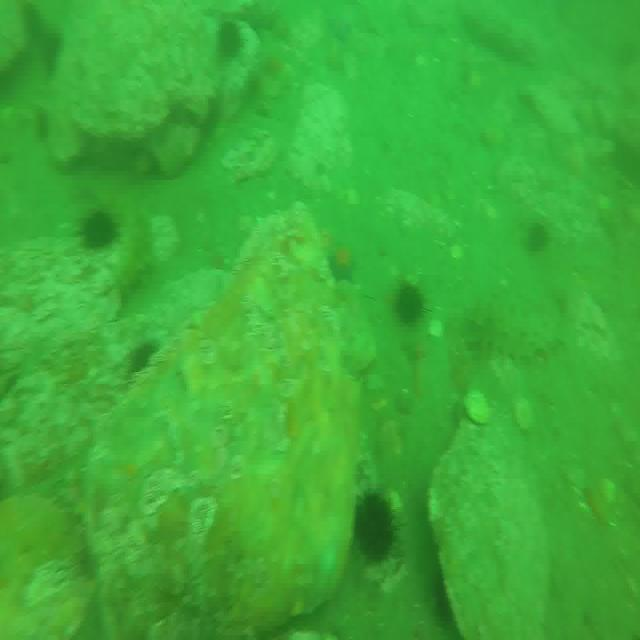echinus: (351, 491, 394, 561), (80, 208, 119, 258), (396, 278, 426, 332), (127, 342, 162, 379), (215, 18, 241, 59), (522, 221, 548, 247)
holothurian: (468, 302, 556, 353)
scallop: (465, 385, 494, 430), (514, 394, 533, 435), (430, 312, 444, 346)
starfish: (322, 237, 357, 284), (327, 5, 360, 39)
